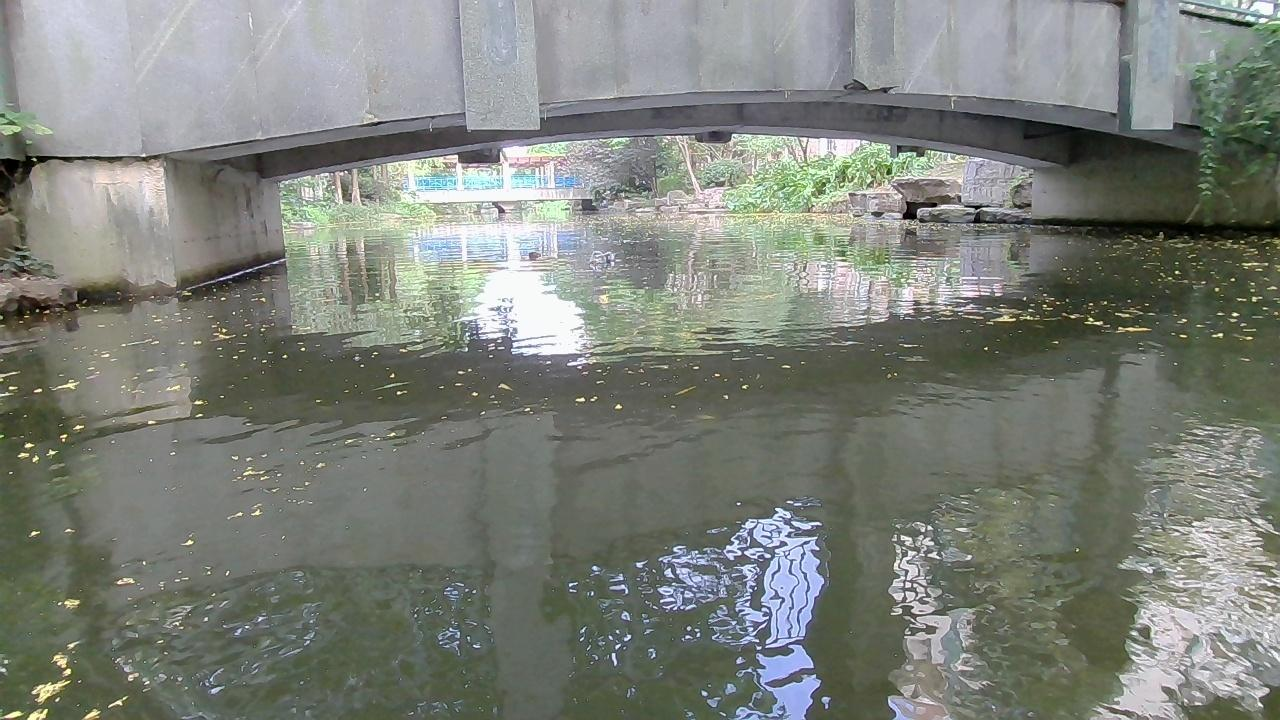bottle: (590, 250, 620, 269), (521, 250, 544, 264)
